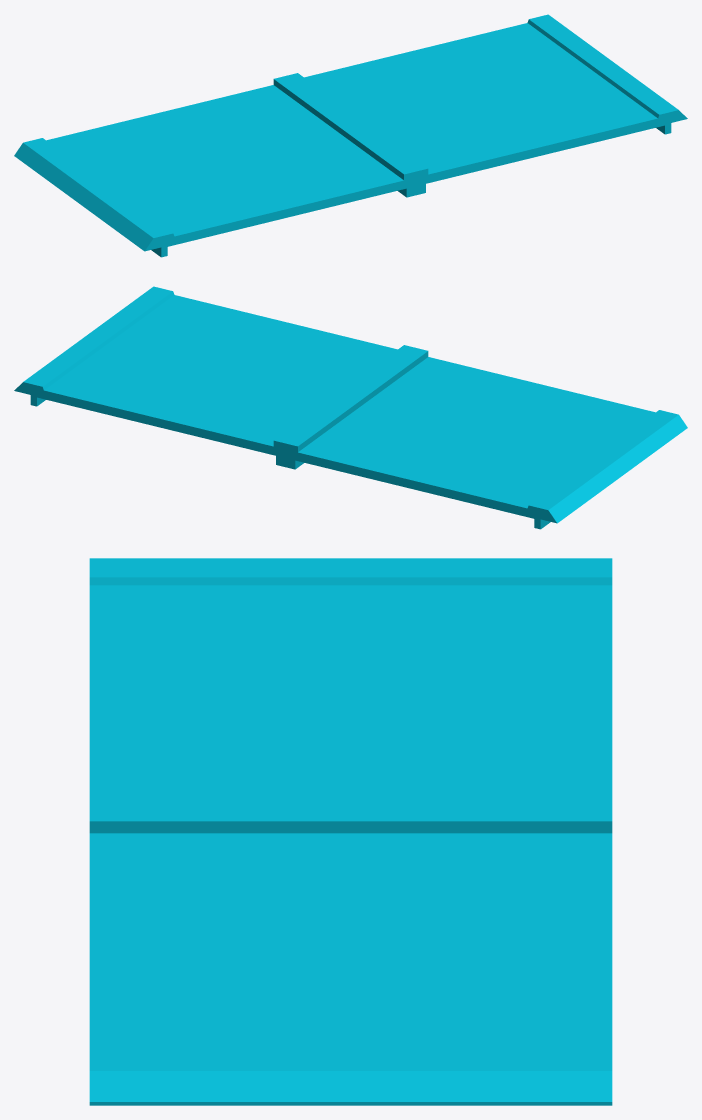
The model's file is Mdl_Vagon_piso.fbx.
3 views of the same model, one above another, from view 1: azimuth 30°, elevation 25°; view 2: azimuth 150°, elevation 25°; view 3: azimuth 270°, elevation 25° (orthographic). The views are drawn at different scales.
Visible parts, largest first — view 1: Mdl_Vagon_piso; view 2: Mdl_Vagon_piso; view 3: Mdl_Vagon_piso.
Part boxes in pixels (box(x1,y1,x2,y2)): Mdl_Vagon_piso: box(14, 14, 687, 257); Mdl_Vagon_piso: box(14, 286, 687, 529); Mdl_Vagon_piso: box(89, 558, 612, 1105).
Size of the model in its own units: 59.53 by 2.49 by 24.78.
